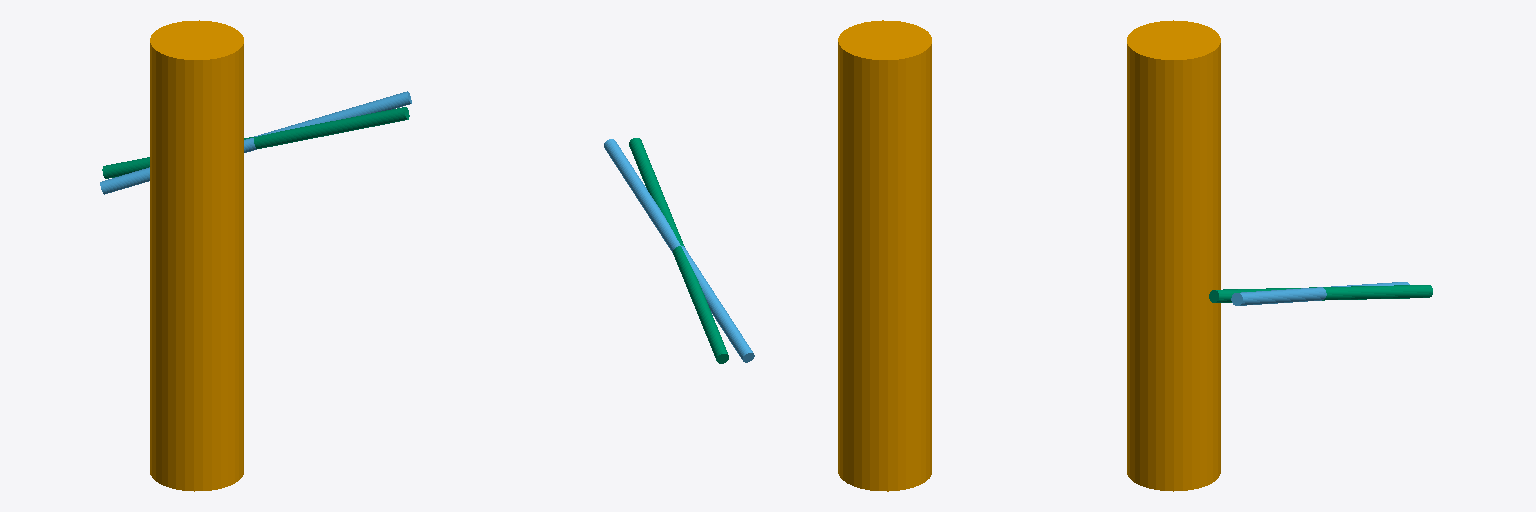
The robot description file, URDF, robot "pepe":
<?xml version="1.0"?><robot name="pepe">
	<link name="0">
		<visual>
			<geometry>
				<cylinder length="2.8219324425915286" radius="0.2802727606231159"/>
			</geometry>
		</visual>
		<collision>
			<geometry>
				<cylinder length="2.8219324425915286" radius="0.2802727606231159"/>
			</geometry>
		</collision>
		<inertial>
			<mass value="0.6963992066119021"/>
			<inertia ixx="0.03" iyy="0.03" izz="0.03" ixy="0" ixz="0" iyx="0"/>
		</inertial>
	</link>
	<link name="11">
		<visual>
			<geometry>
				<cylinder length="1.9350161549564626" radius="0.03975856454027582"/>
			</geometry>
		</visual>
		<collision>
			<geometry>
				<cylinder length="1.9350161549564626" radius="0.03975856454027582"/>
			</geometry>
		</collision>
		<inertial>
			<mass value="0.009609390891341682"/>
			<inertia ixx="0.03" iyy="0.03" izz="0.03" ixy="0" ixz="0" iyx="0"/>
		</inertial>
	</link>
	<link name="12">
		<visual>
			<geometry>
				<cylinder length="1.9350161549564626" radius="0.03975856454027582"/>
			</geometry>
		</visual>
		<collision>
			<geometry>
				<cylinder length="1.9350161549564626" radius="0.03975856454027582"/>
			</geometry>
		</collision>
		<inertial>
			<mass value="0.009609390891341682"/>
			<inertia ixx="0.03" iyy="0.03" izz="0.03" ixy="0" ixz="0" iyx="0"/>
		</inertial>
	</link>
	<joint name="11_to_0" type="revolute">
		<parent link="0"/>
		<child link="11"/>
		<axis xyz="1 0 0"/>
		<limit effort="1" upper="-3.1415" lower="3.1415" velocity="1"/>
		<origin rpy="0.3500619068412015 1.9306671821626888 2.935201553877297" xyz="0.9080515190631776 0.8739489838468218 0.17539322293207127"/>
	</joint>
	<joint name="12_to_0" type="revolute">
		<parent link="0"/>
		<child link="12"/>
		<axis xyz="1 0 0"/>
		<limit effort="1" upper="-3.1415" lower="3.1415" velocity="1"/>
		<origin rpy="0.5250928602618022 1.9306671821626888 2.935201553877297" xyz="0.9080515190631776 0.8739489838468218 0.17539322293207127"/>
	</joint>
</robot>

--- Facts derived from the render (not from the file) ---
The picture shows the robot from 3 angles, left to right: view 1: azimuth 30°, elevation 25°; view 2: azimuth 150°, elevation 25°; view 3: azimuth 270°, elevation 25°; orthographic projection.
Model pepe with 3 links and 2 joints (2 revolute), rooted at 0, posed every joint at zero.
Visible links, largest first — view 1: 0, 12, 11; view 2: 0, 11, 12; view 3: 0, 12, 11.
Boxes of the visible links, bbox=[...] form: 0: bbox=[150, 20, 243, 491]; 12: bbox=[102, 107, 409, 178]; 11: bbox=[100, 91, 411, 194]; 0: bbox=[838, 20, 931, 491]; 11: bbox=[604, 139, 754, 362]; 12: bbox=[629, 138, 728, 363]; 0: bbox=[1127, 20, 1220, 491]; 12: bbox=[1209, 285, 1432, 302]; 11: bbox=[1231, 282, 1409, 305].
Bounding box of the posed robot: 1.98 × 1.82 × 2.82 m (x, y, z).
Geometry: primitives only (box / cylinder / sphere), no mesh files.
